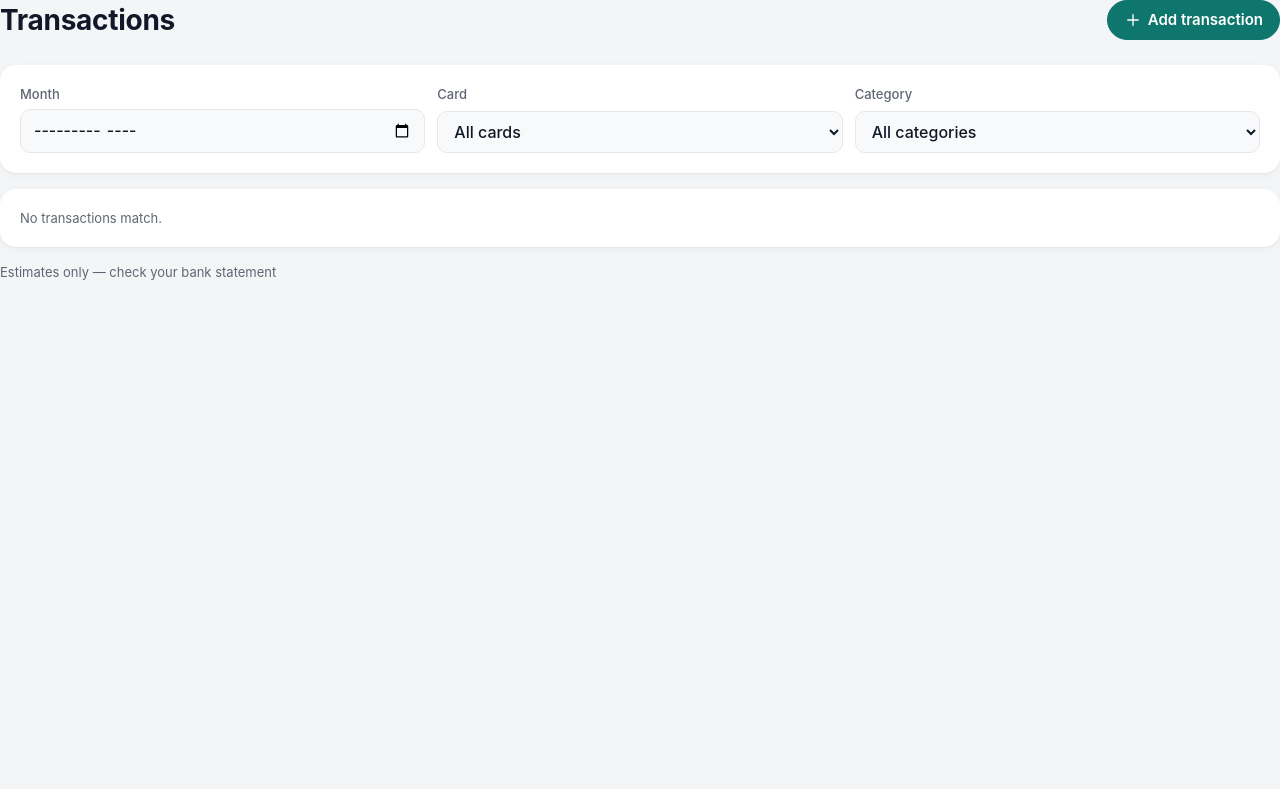
Scenario: TransactionsPage › adds a transaction typed with RM and commas and shows its cashback
This screenshot has width=1280, height=789.
Click the button "Add transaction" at (1193, 20), box x1=1107 y1=0 x2=1279 y2=40
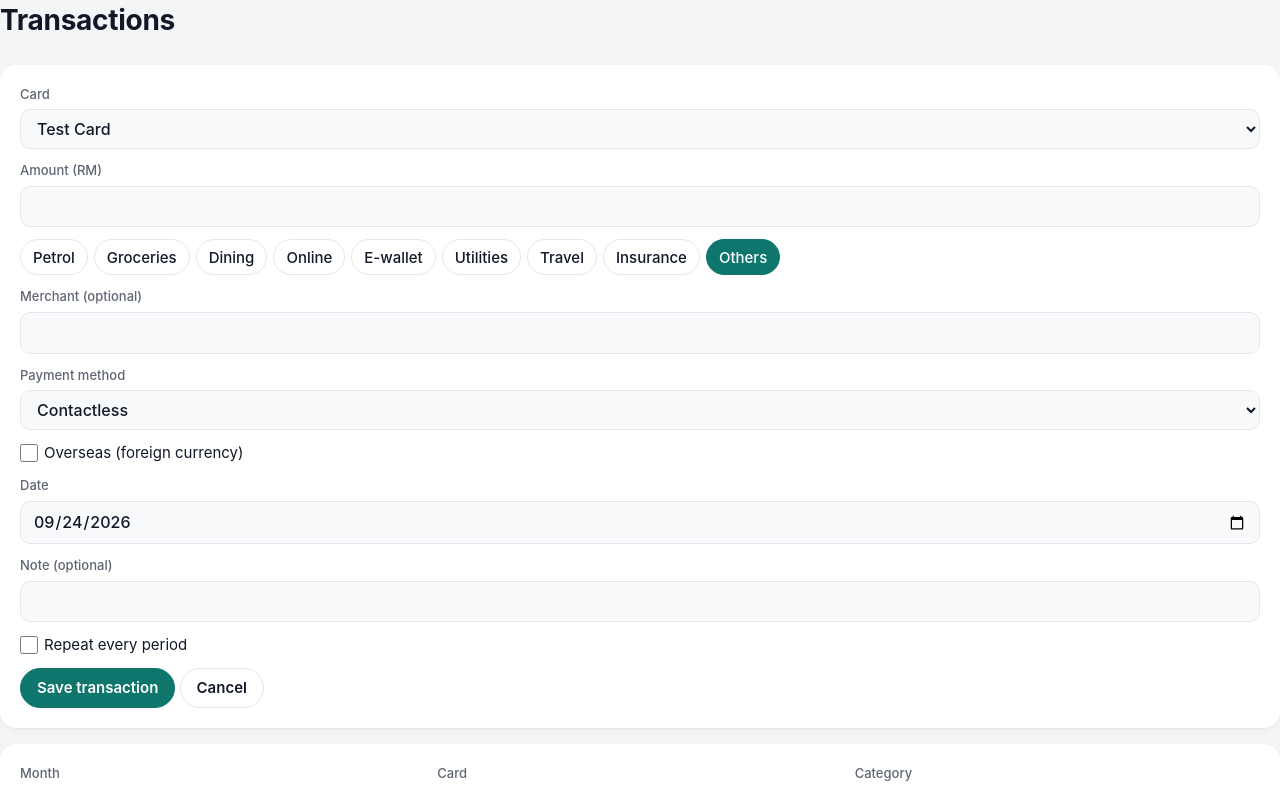
Type "RM1,234.00" into the field labelled "Amount (RM)" at (640, 207), box x1=20 y1=186 x2=1260 y2=228
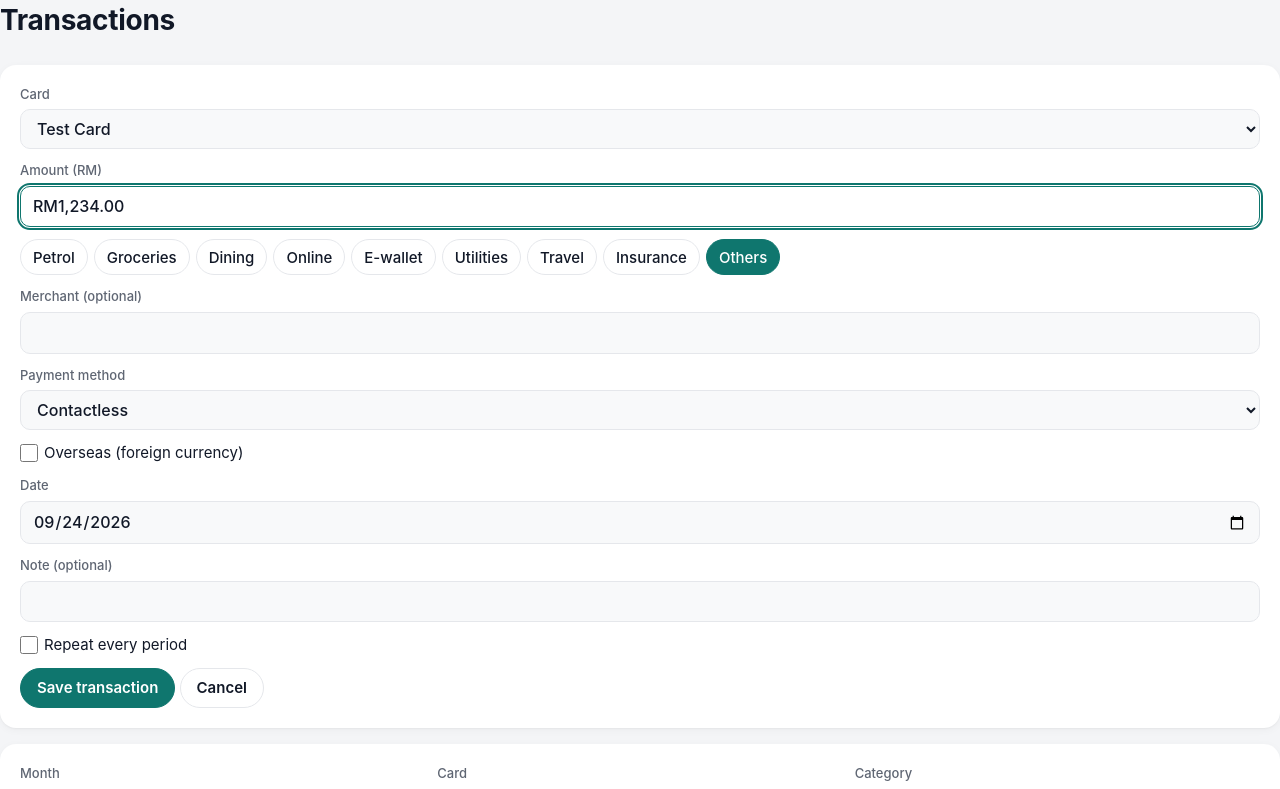
Click the button "Dining" at (232, 258), box x1=196 y1=240 x2=267 y2=276
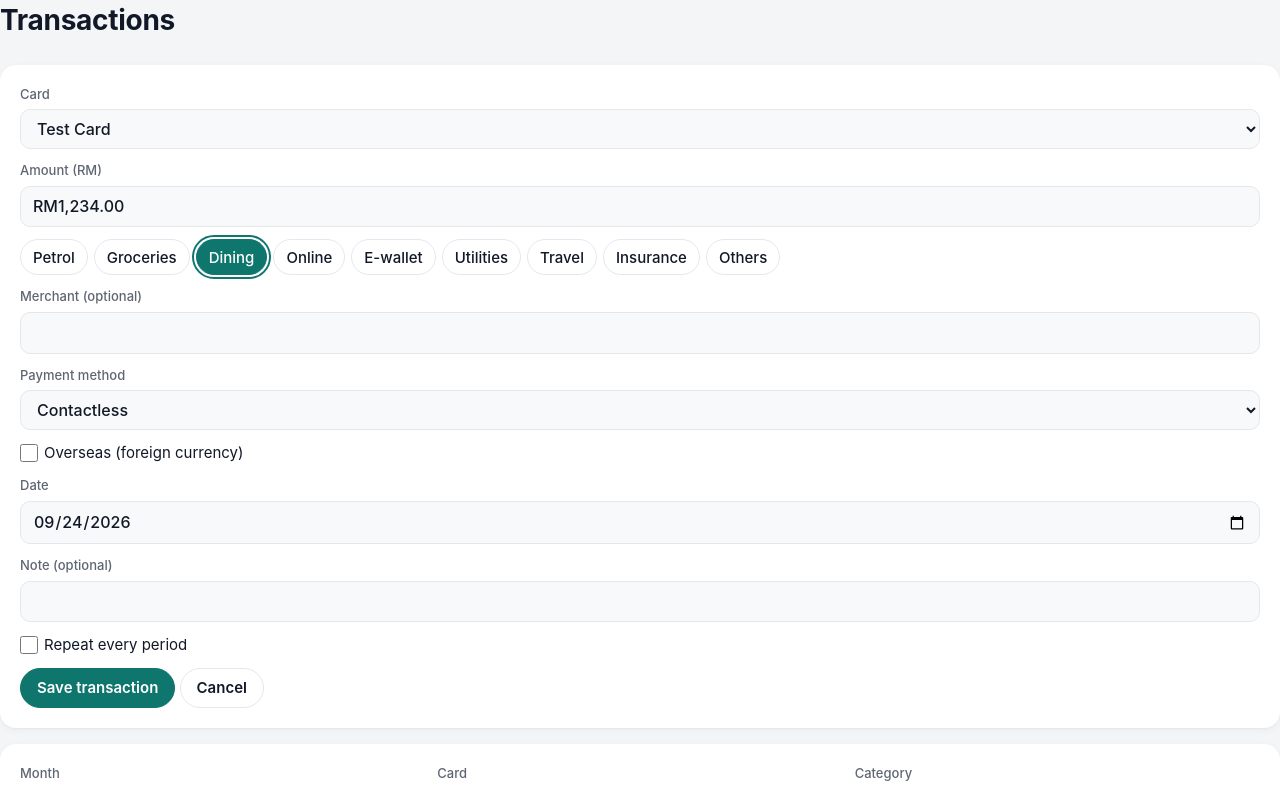
Click the button "Save transaction" at (98, 688), box x1=20 y1=668 x2=175 y2=708
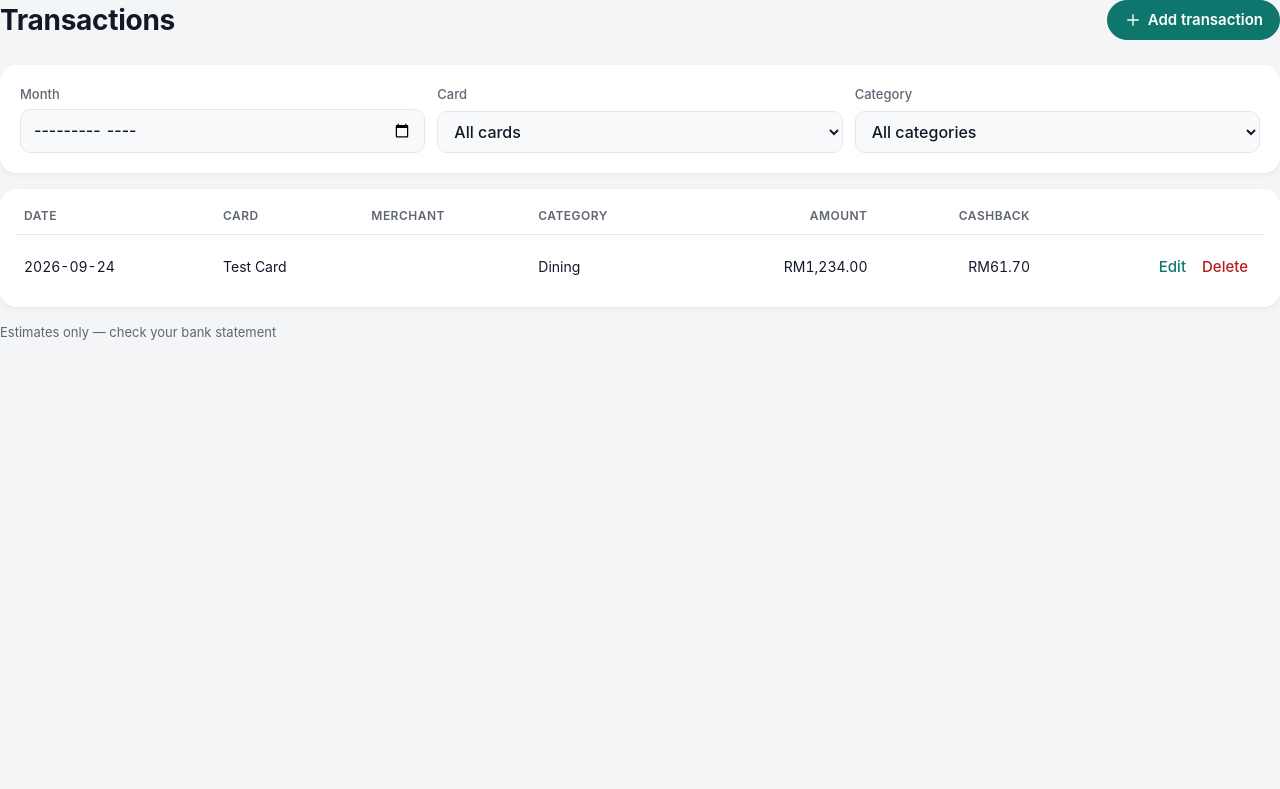
Check: the text "RM1,234.00" is shown, box x1=690 y1=234 x2=876 y2=299
Check: the text "RM61.70" is shown, box x1=876 y1=234 x2=1038 y2=299
